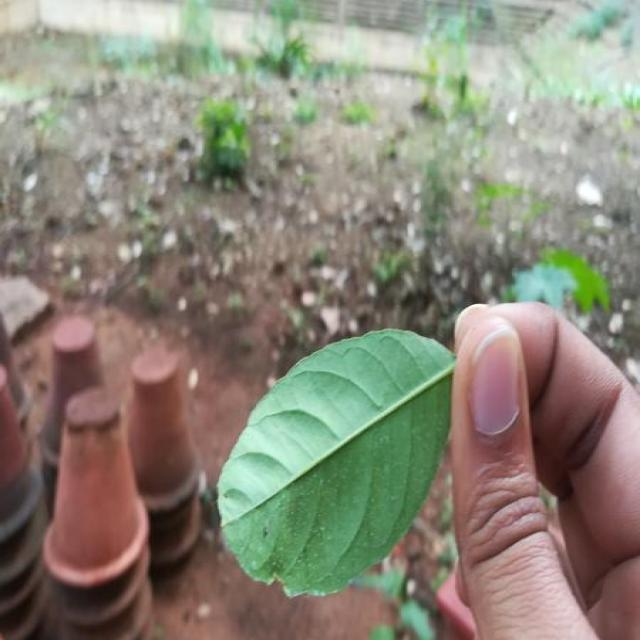badipala: (218, 329, 455, 595)
